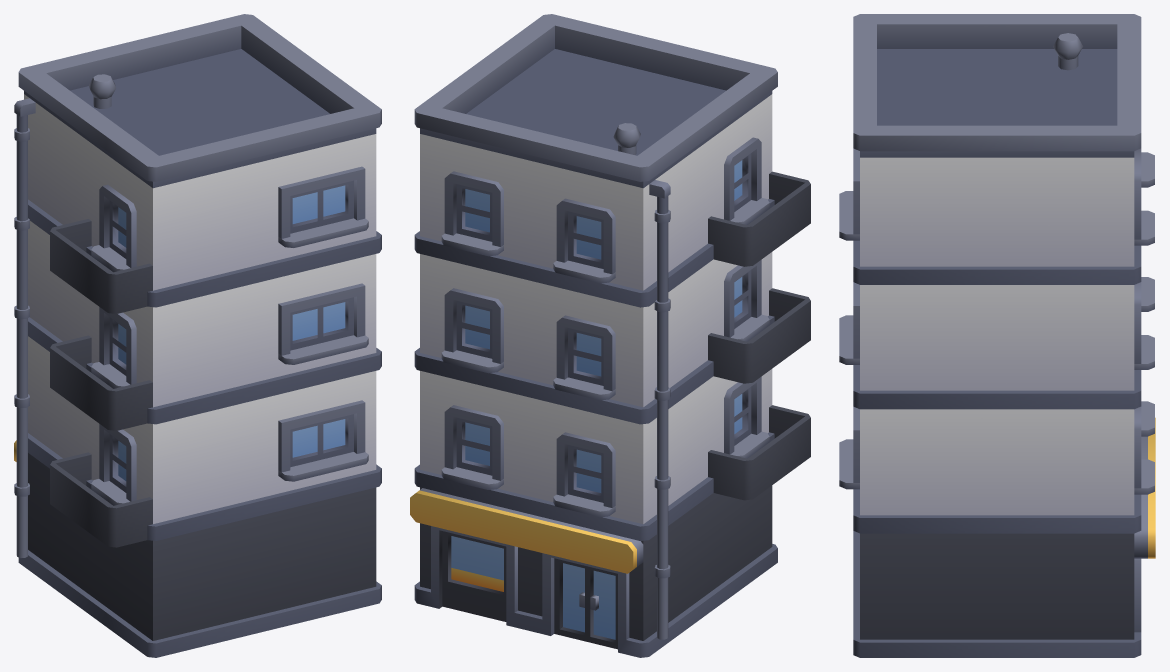
File: building-g.glb
3 views of the same model, side by side, from view 1: azimuth 30°, elevation 25°; view 2: azimuth 150°, elevation 25°; view 3: azimuth 270°, elevation 25° (orthographic). The views are drawn at different scales.
Visible parts, largest first — view 1: building-g; view 2: building-g; view 3: building-g.
Part boxes in pixels (bbox=[...]): building-g: bbox=[14, 14, 381, 657]; building-g: bbox=[410, 14, 810, 657]; building-g: bbox=[839, 14, 1155, 657].
Bounding box in the file's own units: 0.9701 × 1.69 × 0.9222.
Materials: 1 (1 with a texture image).
